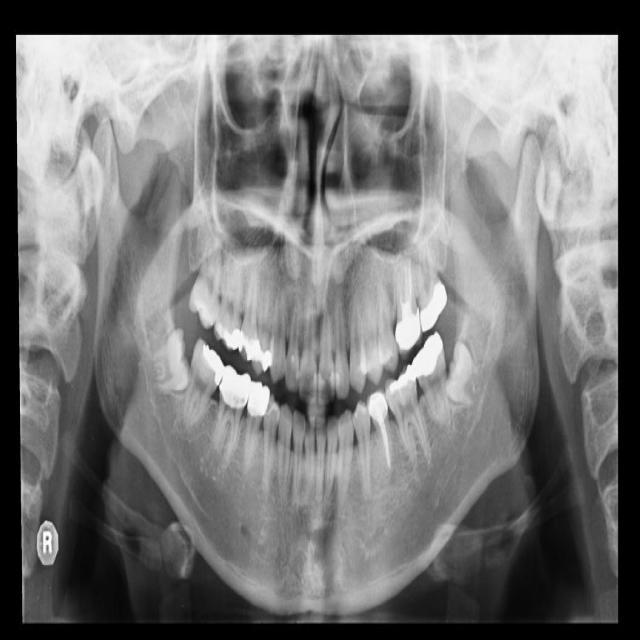52: (179, 337, 237, 395), (376, 362, 430, 415), (408, 281, 457, 335), (406, 330, 453, 385), (392, 307, 425, 361), (211, 303, 246, 353), (217, 365, 252, 410), (365, 385, 391, 428), (246, 380, 271, 418), (252, 335, 275, 374), (238, 320, 259, 360)
73: (371, 412, 398, 482), (395, 257, 417, 323), (608, 598, 616, 610)
BioHorizons Implant: (412, 239, 451, 335)
Biomet 3i Implant: (442, 342, 491, 412)
Blue Sky Bio Implant: (407, 331, 457, 433)
Caries: (186, 232, 229, 329)
Implant: (182, 338, 227, 434)
Keystone Dental Implant: (148, 327, 192, 395)
